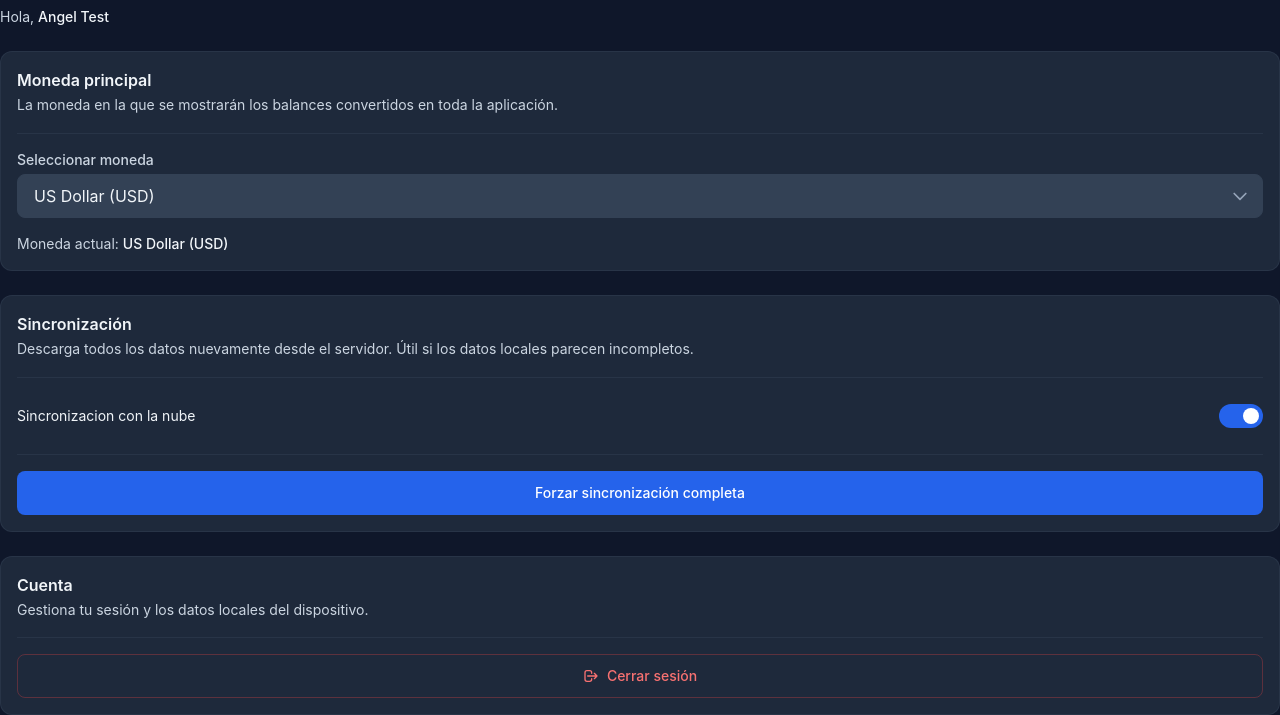
Scenario: SettingsView — logout modal › modal shows "Mantener en modo invitado" option
The image size is (1280, 715).
(page scrolled)
What coordinates should you click on to do the following:
click the button "Cerrar sesión"
I would click on:
 (640, 676)
Its box is left=17, top=654, right=1263, bottom=698.
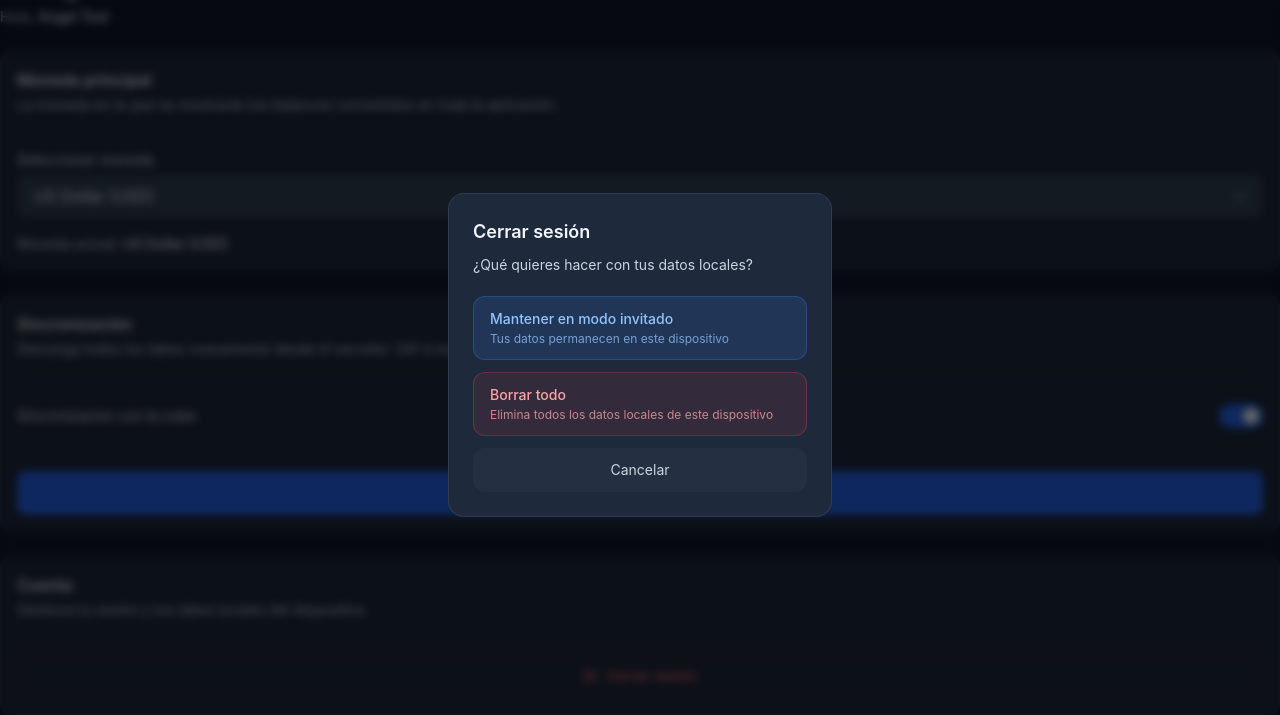
Now the text "Mantener" is shown, box left=490, top=310, right=673, bottom=327
